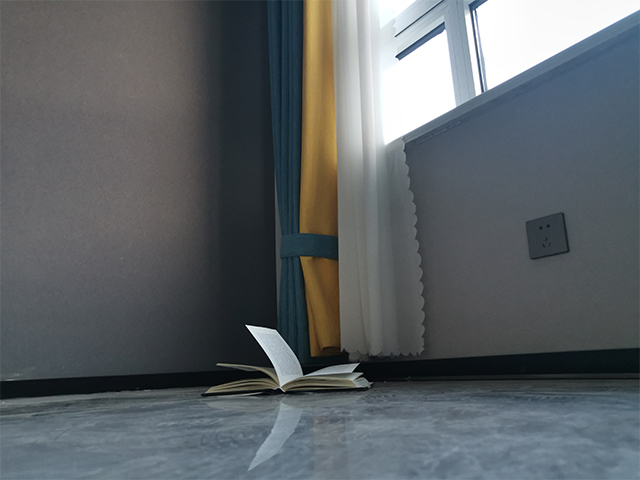book: (198, 322, 377, 398)
curtain: (264, 1, 429, 365)
